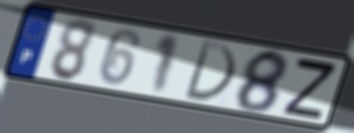1: (151, 33, 180, 98)
6: (98, 26, 143, 88)
8: (234, 48, 292, 115), (50, 17, 98, 83)
D: (181, 38, 238, 105)
Z: (280, 55, 339, 122)
